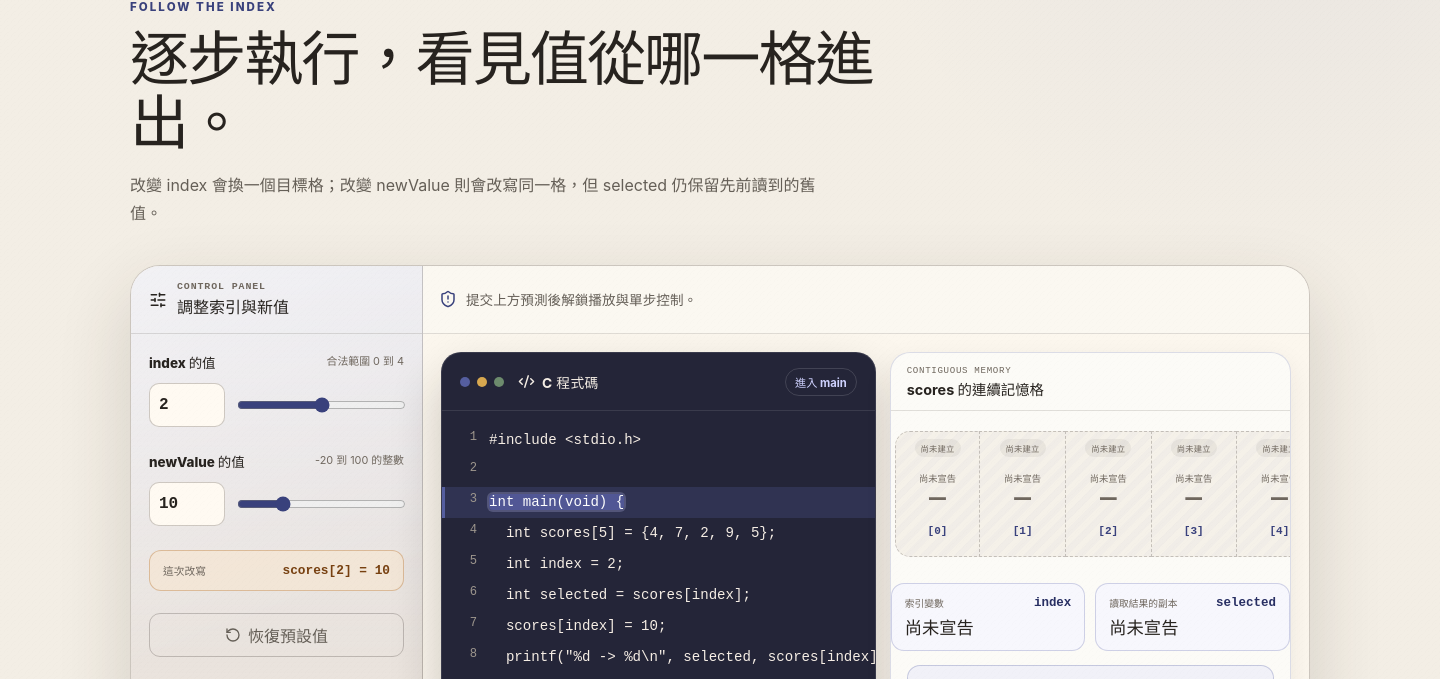
Test: ArrayLessonPage guided array trace › keeps a typed out-of-bounds index and stops before the unsafe read
This screenshot has width=1440, height=679.
(page scrolled)
Replace the text in the number field labelled "index 的值" with "5": (187, 405) [149,383,225,427]
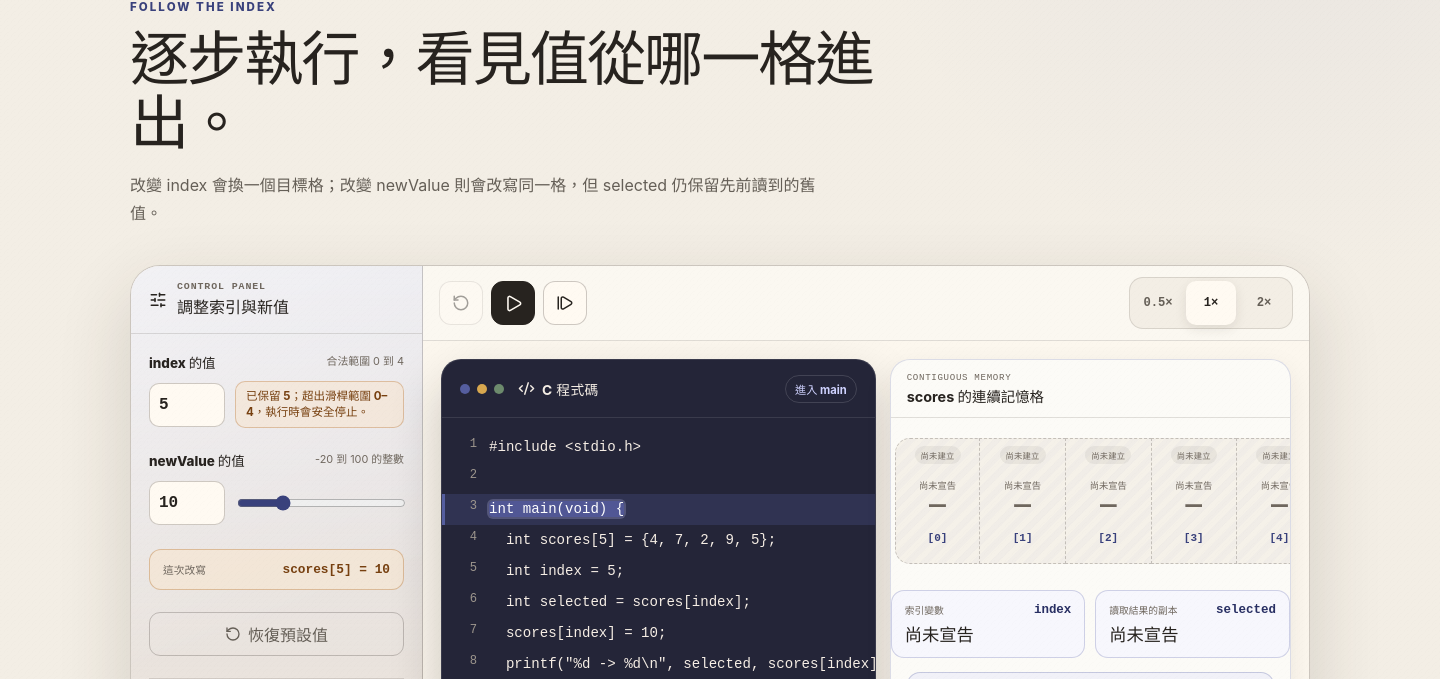
Expected: the text "已保留 5；超出滑桿範圍 0–4，執行時會安全停止。" is shown, [235,381,404,428]
Expected: the button named "執行下一步" is enabled
Click the button named "執行下一步": (565, 303) [543,281,587,325]
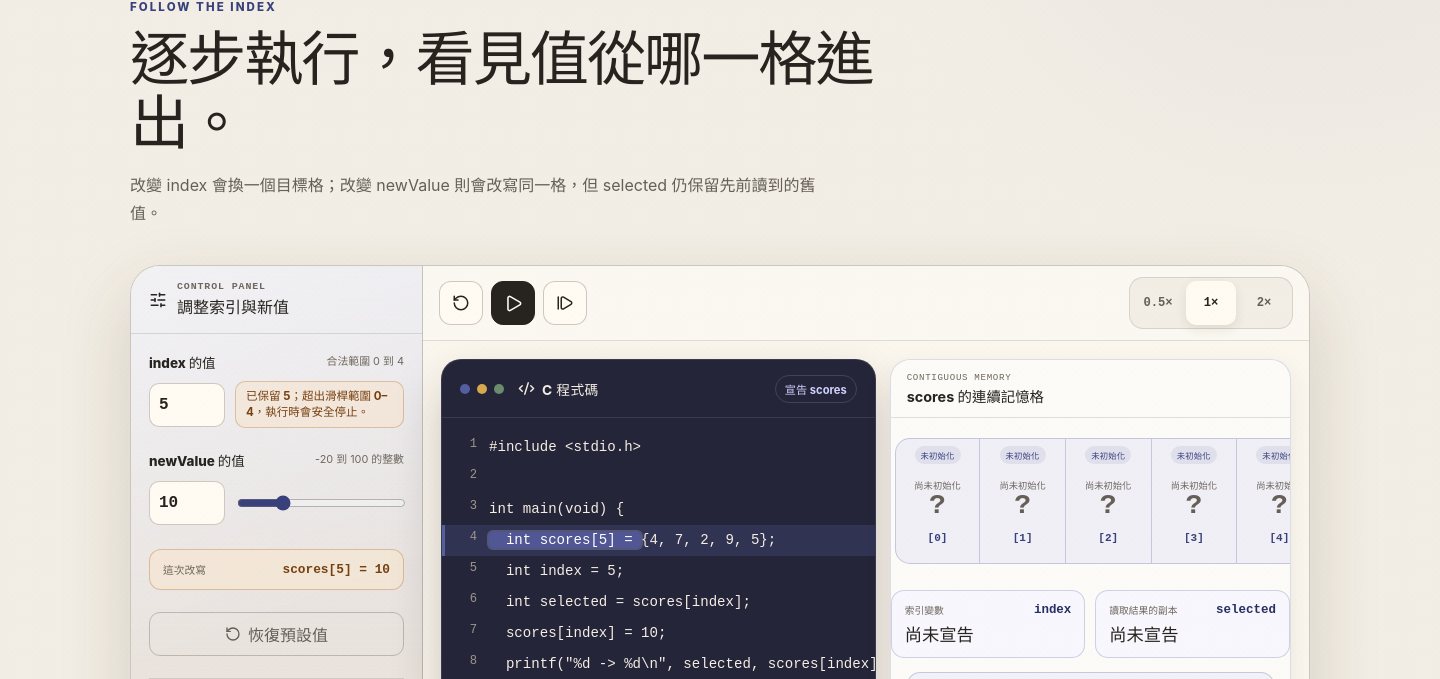
Click the button named "執行下一步": (565, 303) [543,281,587,325]
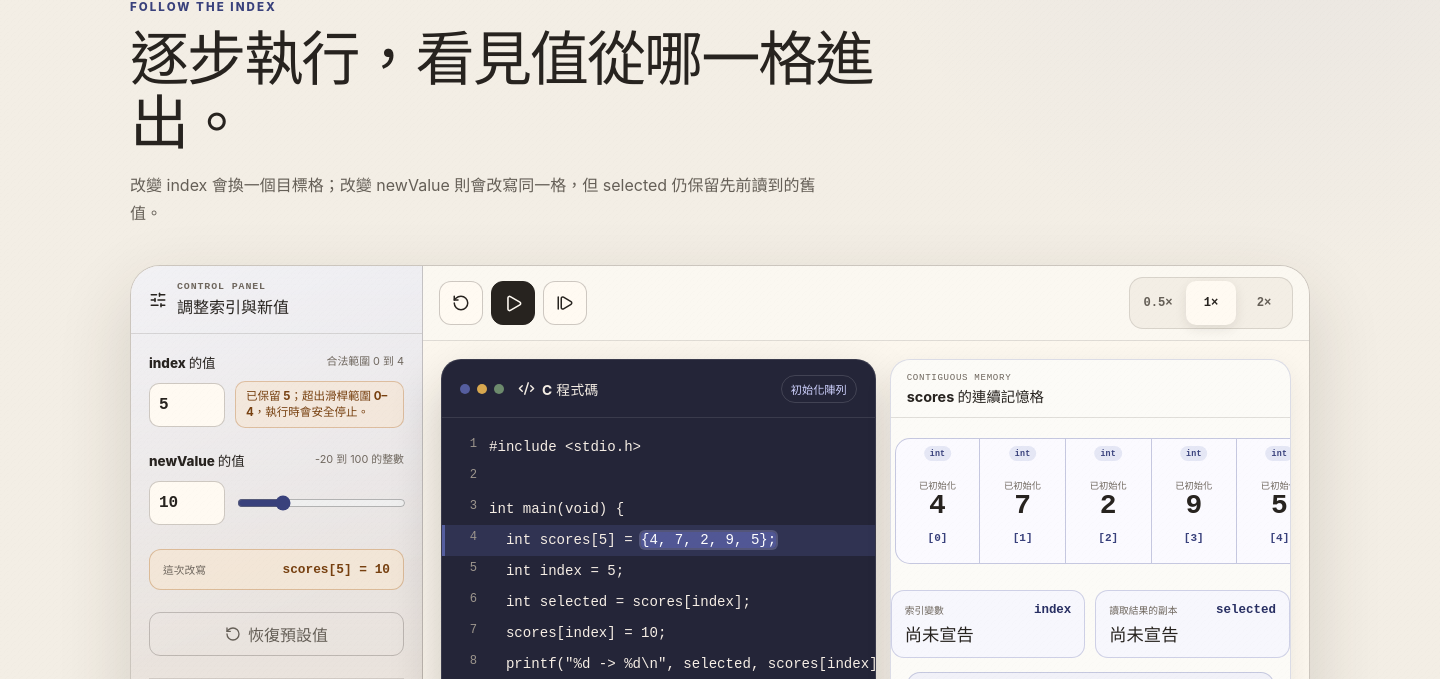
Click the button named "執行下一步": (565, 303) [543,281,587,325]
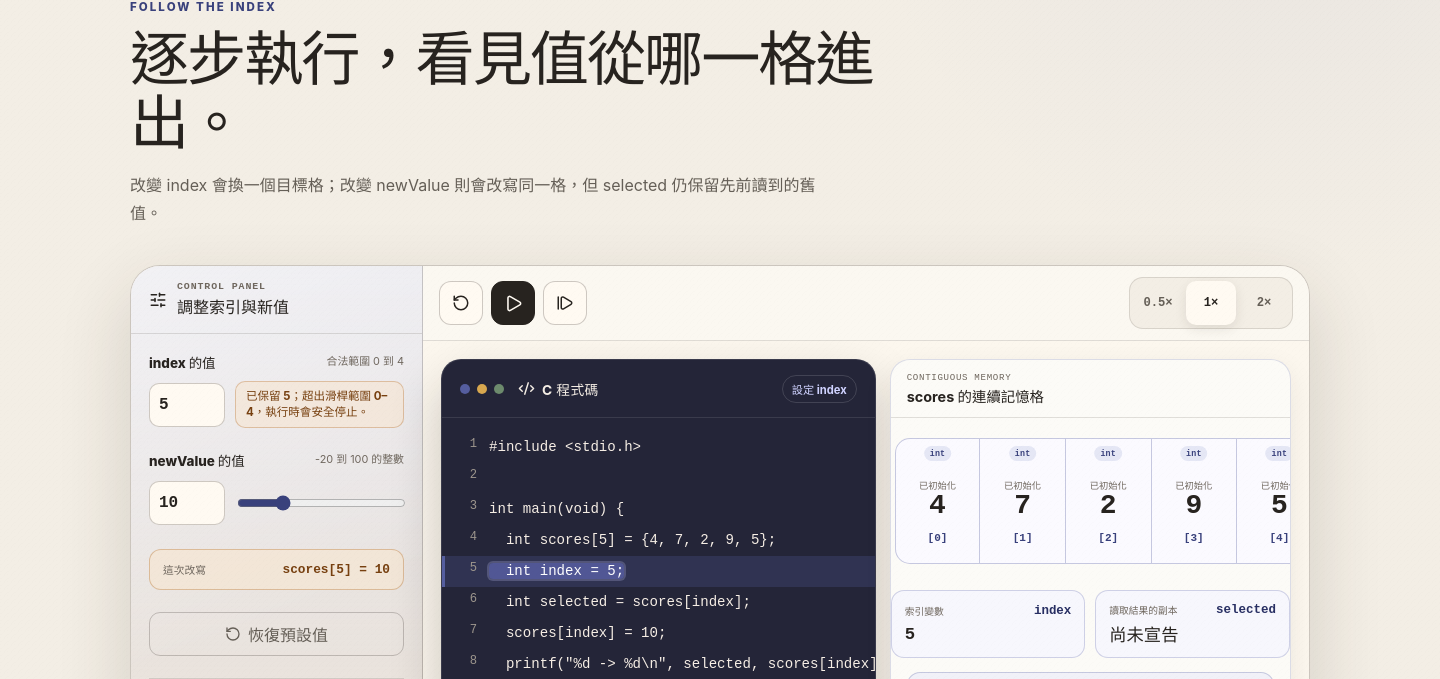
Click the button named "執行下一步": (565, 303) [543,281,587,325]
(page scrolled)
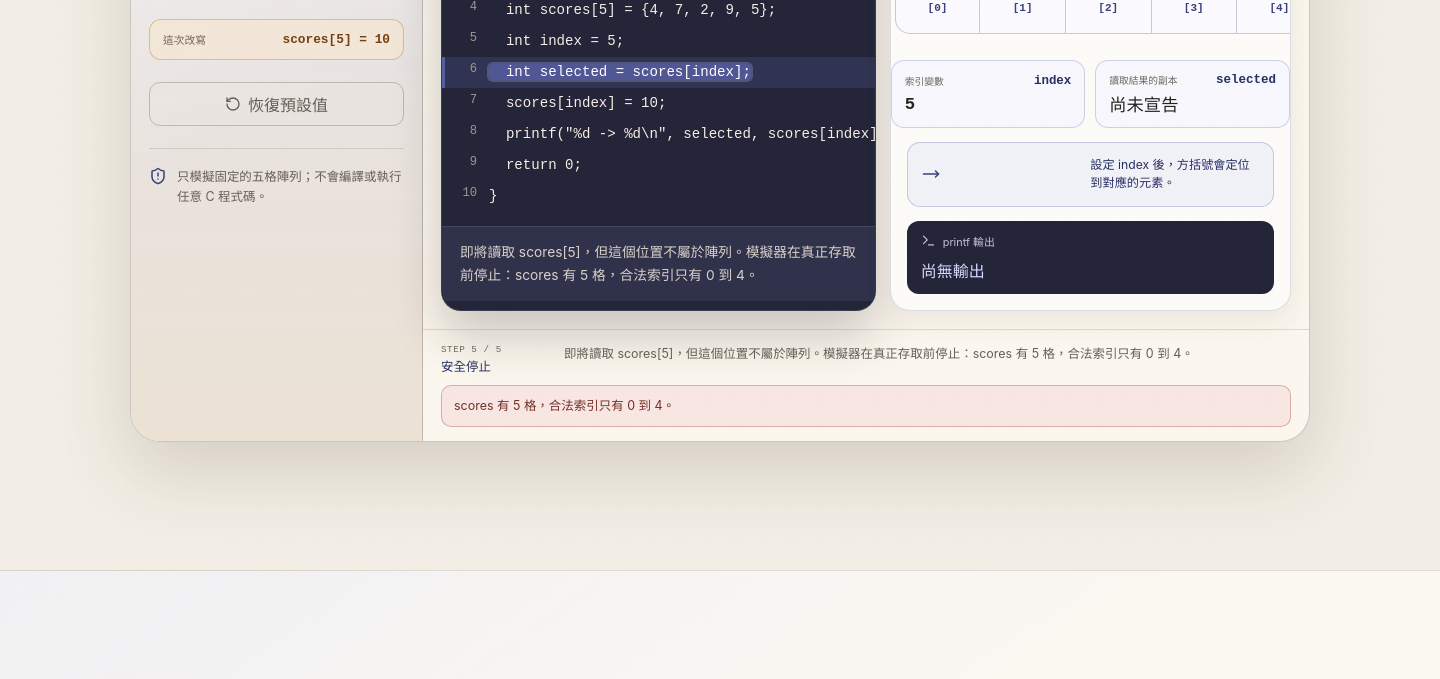
Expected: the element named "C 程式碼，目前執行第 6 行" shows "selected = scores[index]", [489,64,751,80]
Expected: the message shows "合法索引只有 0 到 4", [454,398,675,413]
